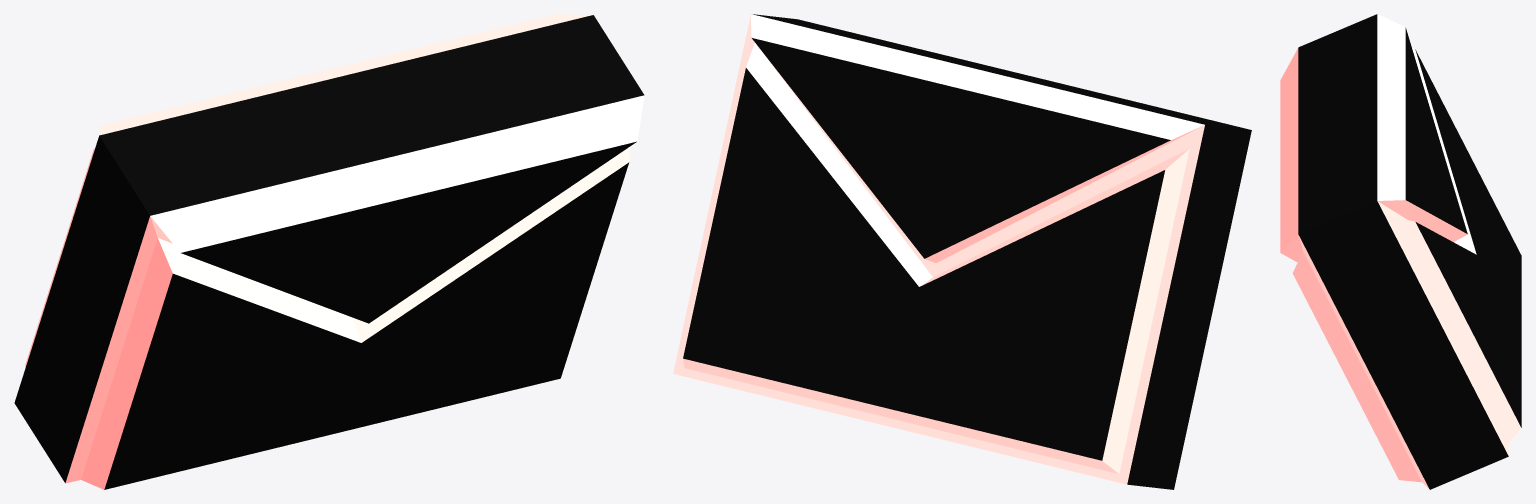
The model's file is Mail.fbx.
3 renders of one model, left to right at view 1: azimuth 30°, elevation 25°; view 2: azimuth 150°, elevation 25°; view 3: azimuth 270°, elevation 25°, orthographic. The views are drawn at different scales.
Visible parts, largest first — view 1: Mail; view 2: Mail; view 3: Mail.
Part boxes in pixels (x1,y1,x2,y2): Mail: (14,14,644,489); Mail: (673,14,1251,489); Mail: (1280,14,1521,489).
Bounding box in the file's own units: 0.64 × 0.3487 × 0.4611.
